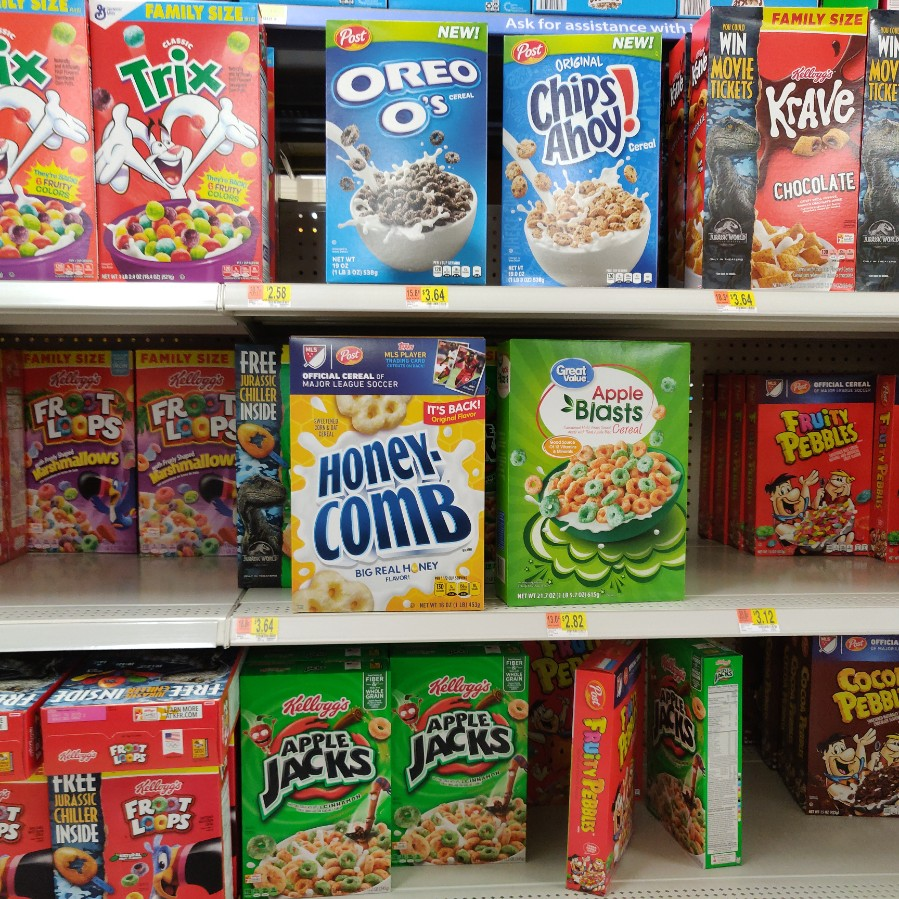Chips Ahoys-565717529: (500, 29, 665, 287)
Honey Comb- 009288857: (277, 339, 482, 616)
Oreo-563424384: (324, 13, 490, 284)
